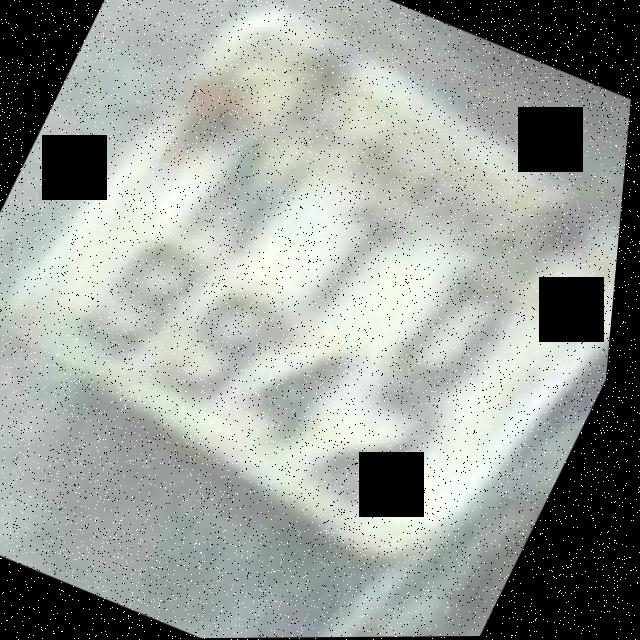2: (283, 338, 491, 541)
4: (216, 293, 391, 490)
9: (53, 198, 233, 391), (139, 252, 315, 428)
D: (369, 219, 555, 424)
N: (149, 92, 338, 284)
